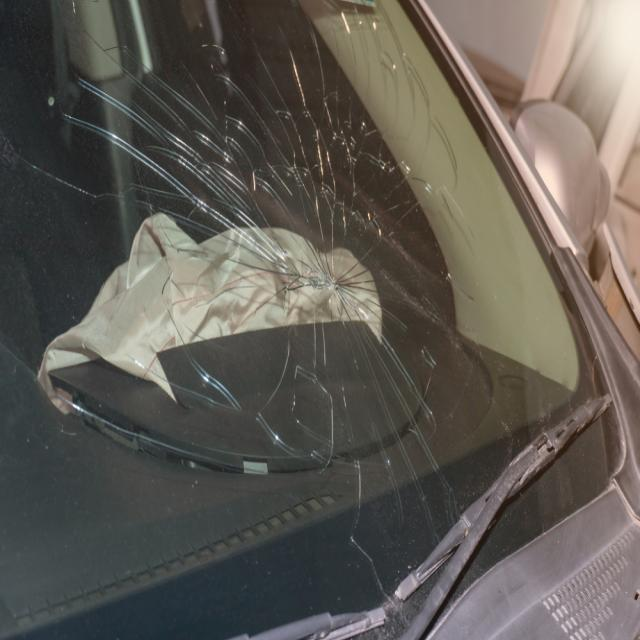glass shatter: (0, 0, 623, 640)
